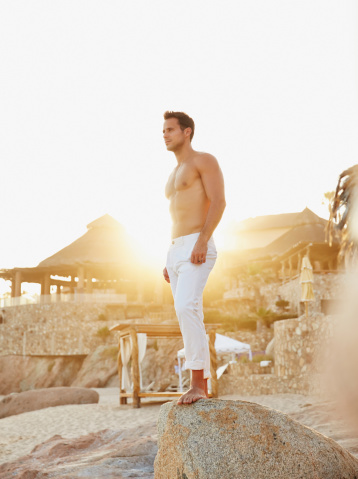em pe: (146, 97, 227, 401)
